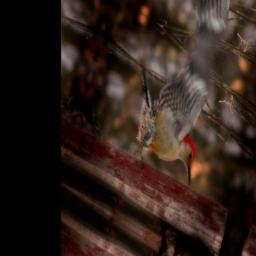Woodpecker: (121, 24, 224, 189)
